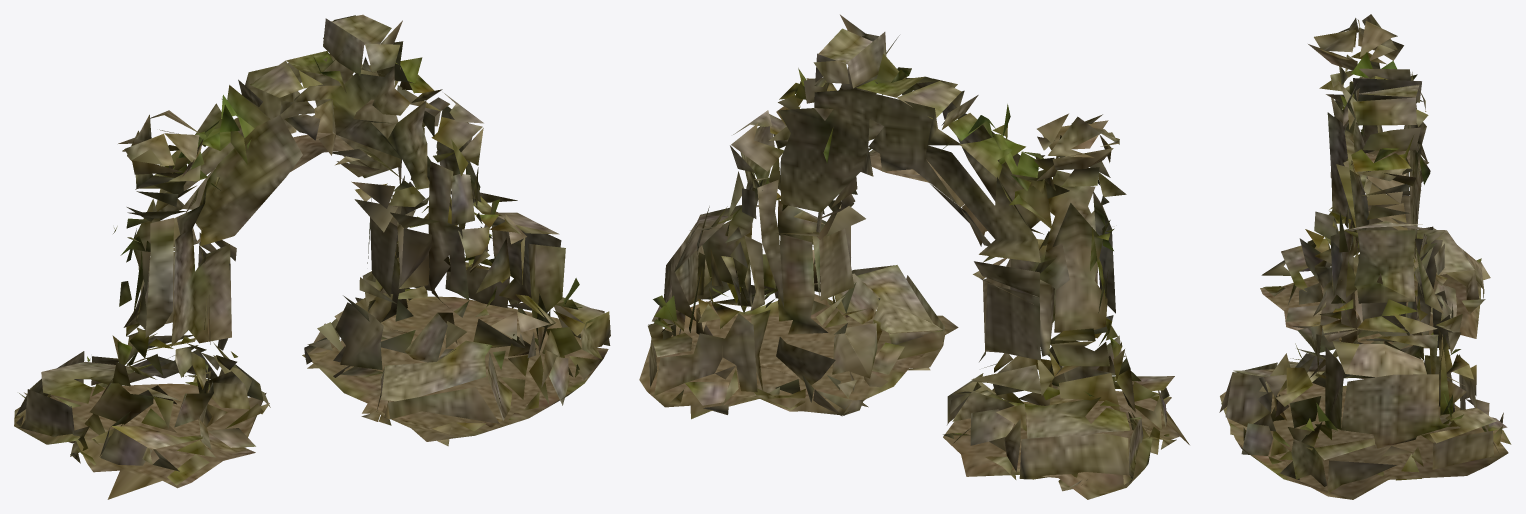
The model's file is ruina_arco_lod2.glb.
The picture shows the model from 3 angles, left to right: view 1: azimuth 30°, elevation 25°; view 2: azimuth 150°, elevation 25°; view 3: azimuth 270°, elevation 25°; orthographic projection. The views are drawn at different scales.
Parts seen in each view (by area): view 1: ruina_arco; view 2: ruina_arco; view 3: ruina_arco.
Part boxes in pixels (left/top/right/bottom): ruina_arco: left=14, top=14, right=610, bottom=499; ruina_arco: left=639, top=14, right=1189, bottom=499; ruina_arco: left=1219, top=14, right=1511, bottom=499.
Bounding box in the file's own units: 6.99 × 4.78 × 3.71.
Materials: 1 (1 with a texture image).
